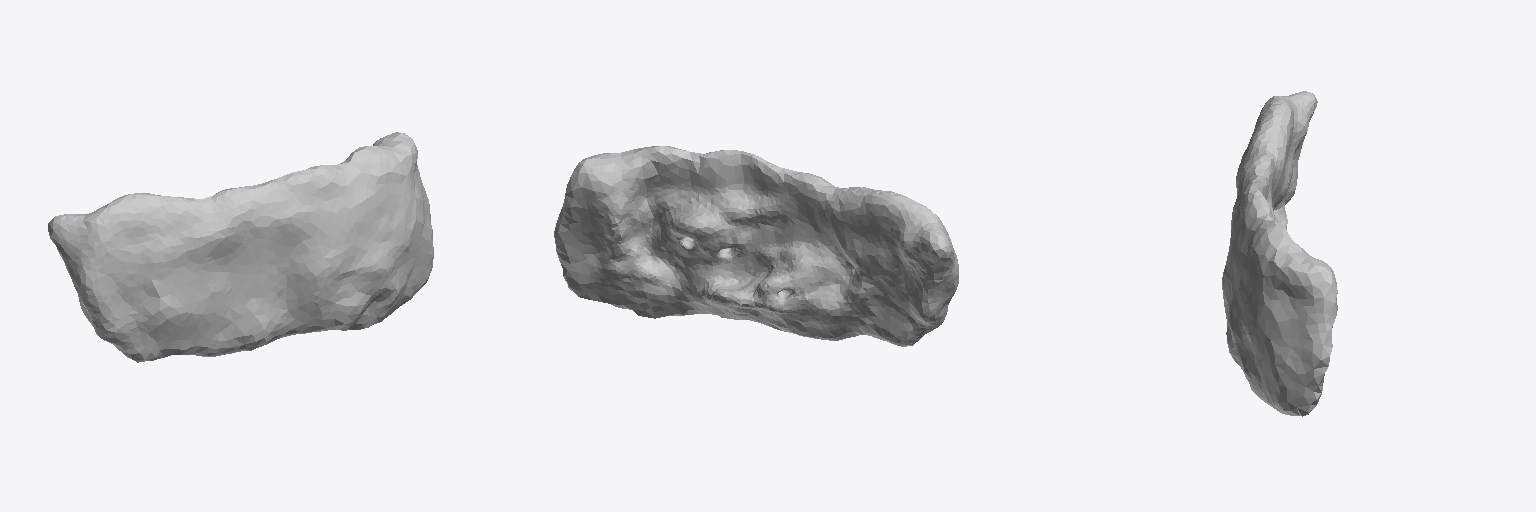
Rendered from Wall 2.obj.
3 views of the same model, side by side, from view 1: azimuth 30°, elevation 25°; view 2: azimuth 150°, elevation 25°; view 3: azimuth 270°, elevation 25° (orthographic).
Visible parts, largest first — view 1: Wall_2_Icosphere.002; view 2: Wall_2_Icosphere.002; view 3: Wall_2_Icosphere.002.
Boxes of the visible parts, x1=… form: Wall_2_Icosphere.002: x1=48, y1=132, x2=433, y2=362; Wall_2_Icosphere.002: x1=554, y1=146, x2=958, y2=346; Wall_2_Icosphere.002: x1=1222, y1=91, x2=1337, y2=416.
Bounding box in the file's own units: 82.78 × 37.54 × 21.4.